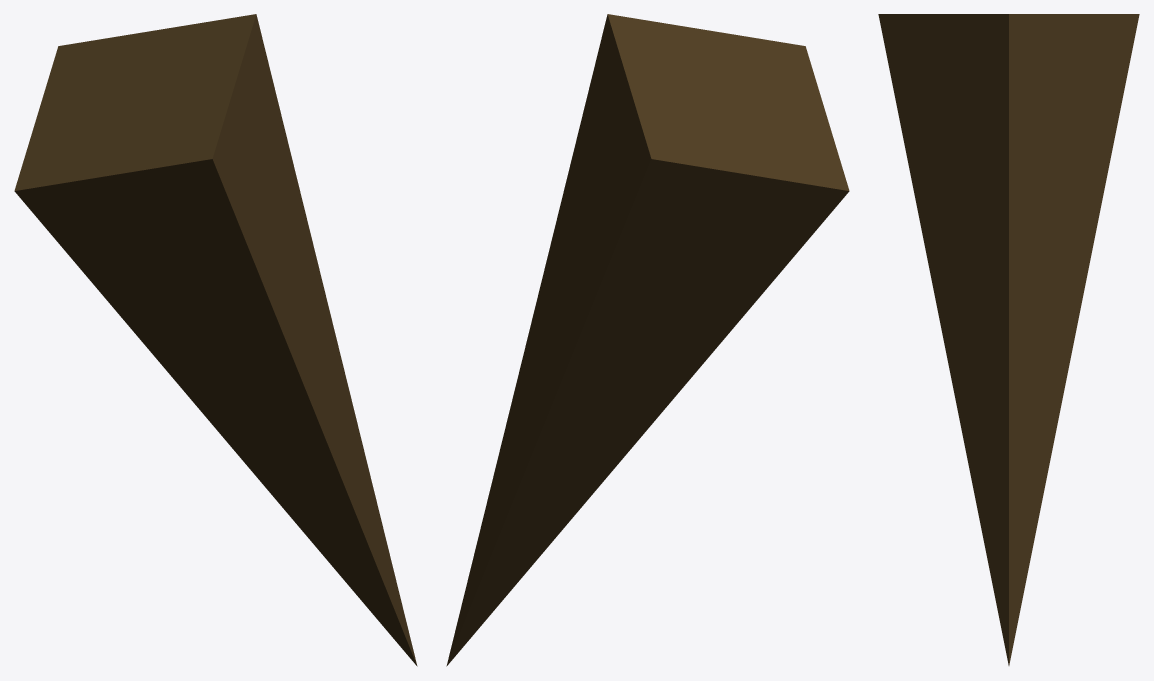
Rendered from torch001.fbx.
3 renders of one model, left to right at view 1: azimuth 30°, elevation 25°; view 2: azimuth 150°, elevation 25°; view 3: azimuth 270°, elevation 25°, orthographic. The views are drawn at different scales.
Parts seen in each view (by area): view 1: Torch; view 2: Torch; view 3: Torch.
Boxes of the visible parts, left/top/right/bottom form: Torch: left=14, top=14, right=417, bottom=666; Torch: left=446, top=14, right=849, bottom=666; Torch: left=878, top=14, right=1139, bottom=665.
Size of the model in its own units: 60.39 by 40 by 99.08.
